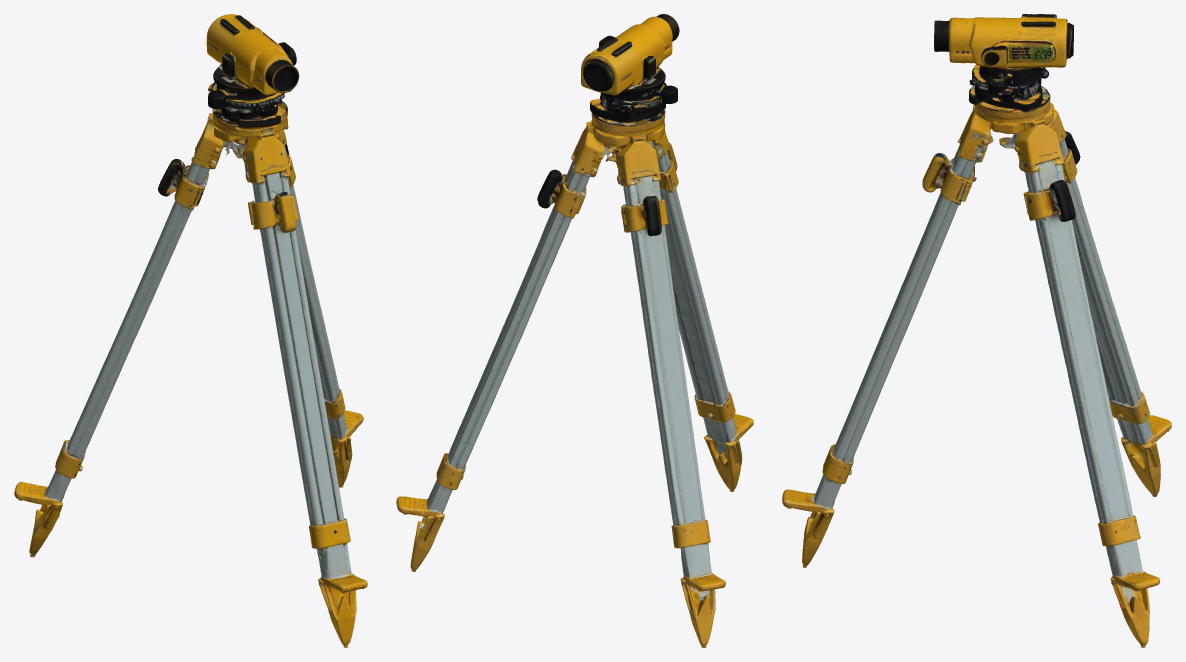
The model's file is lvl.glb.
3 renders of one model, left to right at view 1: azimuth 30°, elevation 25°; view 2: azimuth 150°, elevation 25°; view 3: azimuth 270°, elevation 25°, orthographic. The views are drawn at different scales.
Parts seen in each view (by area): view 1: input, input.001; view 2: input, input.001; view 3: input, input.001.
Part boxes in pixels (<box>): input: <box>14,101,367,647</box>; input.001: <box>206,14,299,113</box>; input: <box>396,98,753,647</box>; input.001: <box>581,14,679,111</box>; input: <box>782,85,1171,647</box>; input.001: <box>934,14,1073,97</box>.
Bounding box in the file's own units: 0.6625 × 1 × 0.64.
1 material, 1 textured.
